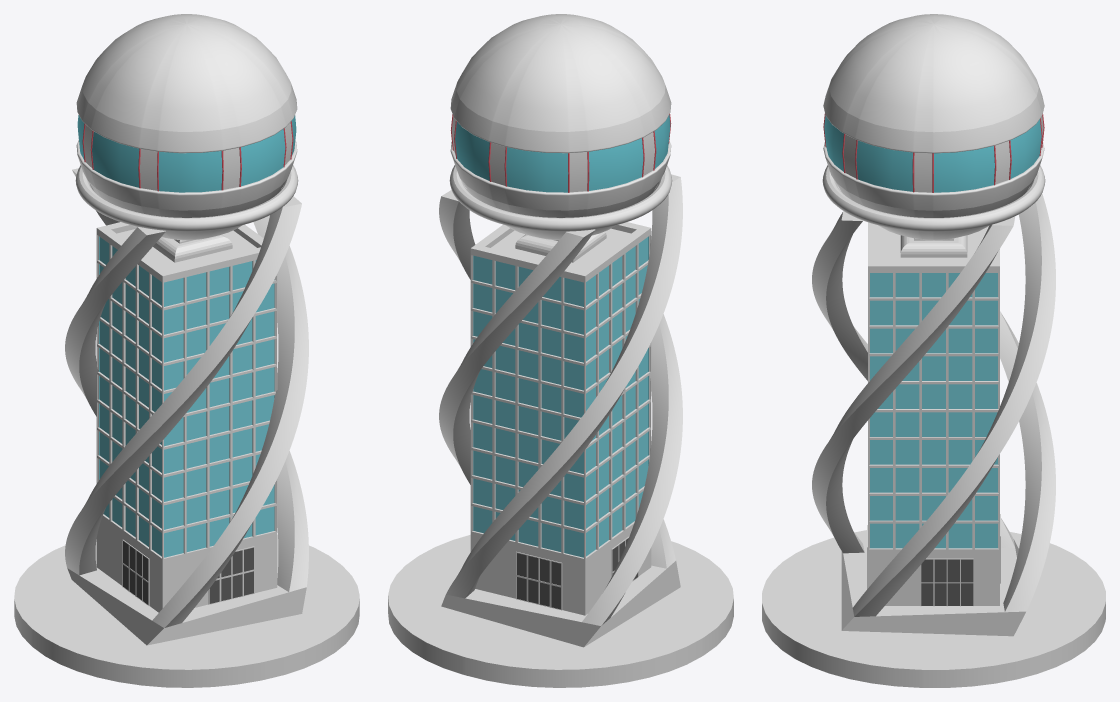
Rendered from center.fbx.
The picture shows the model from 3 angles, left to right: view 1: azimuth 30°, elevation 25°; view 2: azimuth 150°, elevation 25°; view 3: azimuth 270°, elevation 25°; orthographic projection.
Visible parts, largest first — view 1: Cube, Cube.001, Sphere, Cube.002; view 2: Cube, Cube.001, Sphere, Cube.002; view 3: Cube, Cube.001, Sphere, Cube.002.
Boxes of the visible parts, bbox=[...] form: Cube: bbox=[14, 168, 359, 687]; Cube.001: bbox=[96, 222, 277, 612]; Sphere: bbox=[76, 14, 297, 240]; Cube.002: bbox=[75, 165, 298, 231]; Cube: bbox=[388, 174, 733, 687]; Cube.001: bbox=[470, 222, 651, 615]; Sphere: bbox=[450, 14, 671, 240]; Cube.002: bbox=[449, 165, 672, 231]; Cube: bbox=[762, 187, 1105, 687]; Cube.001: bbox=[867, 222, 1000, 606]; Sphere: bbox=[823, 14, 1044, 240]; Cube.002: bbox=[822, 165, 1045, 231].
Bounding box in the file's own units: 398 × 755 × 398.
